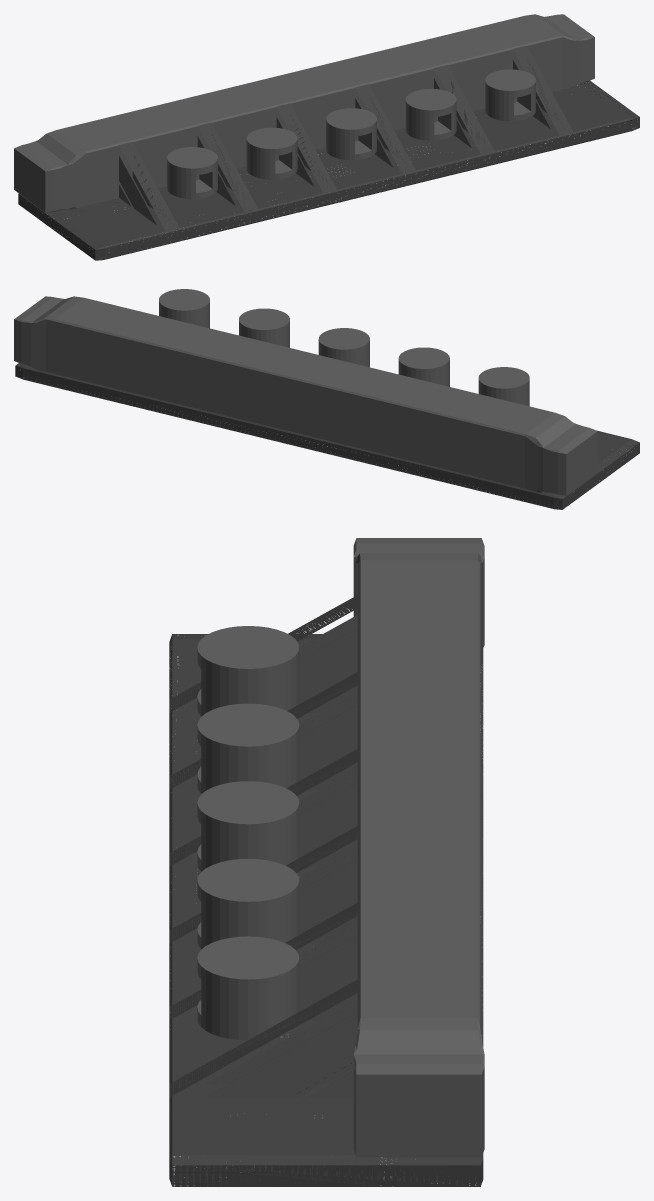
File: Short Switch.fbx
3 views of the same model, one above another, from view 1: azimuth 30°, elevation 25°; view 2: azimuth 150°, elevation 25°; view 3: azimuth 270°, elevation 25° (orthographic). The views are drawn at different scales.
Visible parts, largest first — view 1: SWITCH.004; view 2: SWITCH.004; view 3: SWITCH.004.
Part boxes in pixels (x1=…): SWITCH.004: x1=14, y1=14, x2=639, y2=260; SWITCH.004: x1=14, y1=289, x2=639, y2=509; SWITCH.004: x1=169, y1=538, x2=484, y2=1186.
Size of the model in its own units: 360 by 42 by 89.46.
